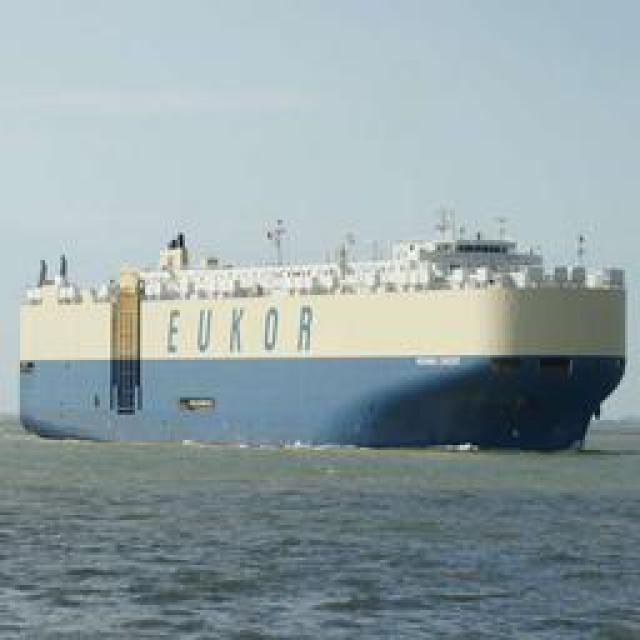Ship: (28, 215, 633, 458)
